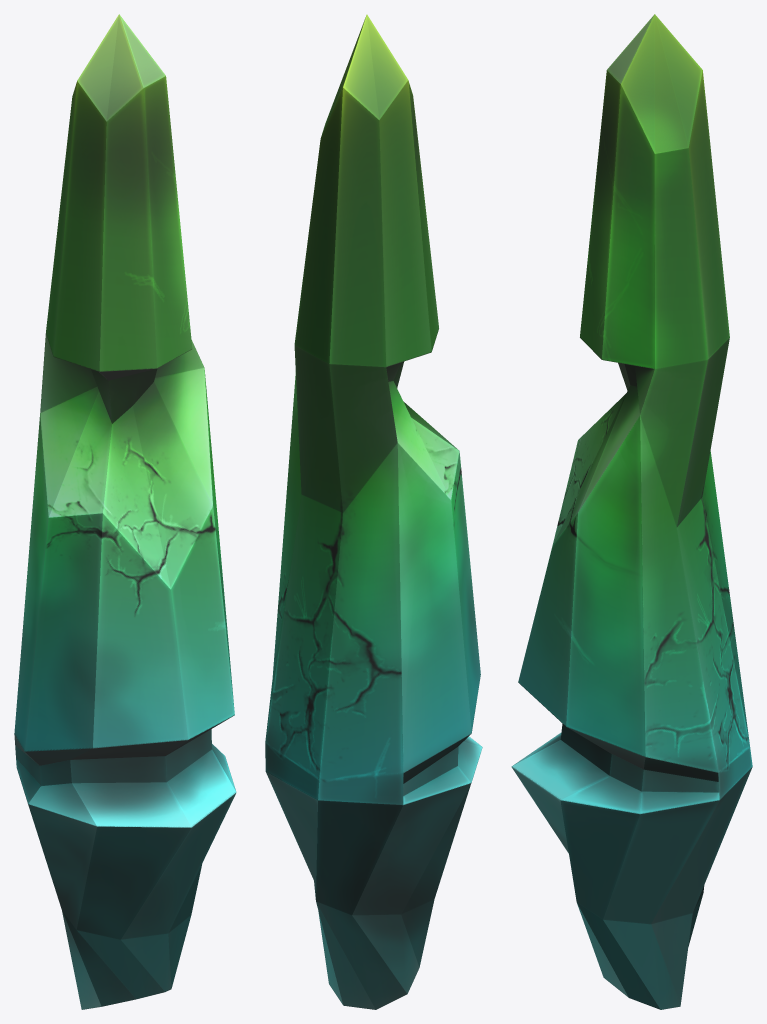
File: Crystal_55.fbx
3 views of the same model, side by side, from view 1: azimuth 30°, elevation 25°; view 2: azimuth 150°, elevation 25°; view 3: azimuth 270°, elevation 25° (orthographic).
Visible parts, largest first — view 1: Crystal_55; view 2: Crystal_55; view 3: Crystal_55.
Part boxes in pixels (x1,y1,x2,y2): Crystal_55: (14, 14, 236, 1009); Crystal_55: (265, 14, 482, 1009); Crystal_55: (511, 14, 752, 1009).
Size of the model in its own units: 20.81 by 98.93 by 21.92.
